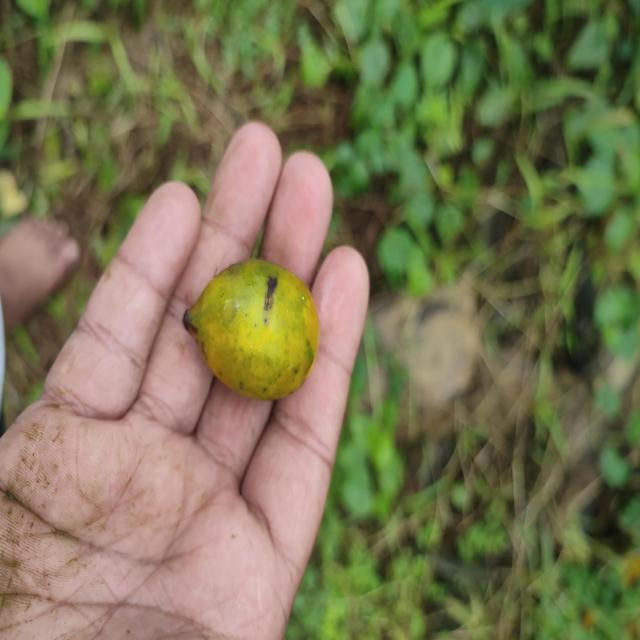good: (181, 257, 321, 402)
